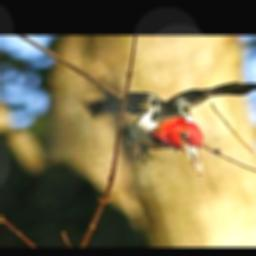Woodpecker: (84, 73, 256, 177)
